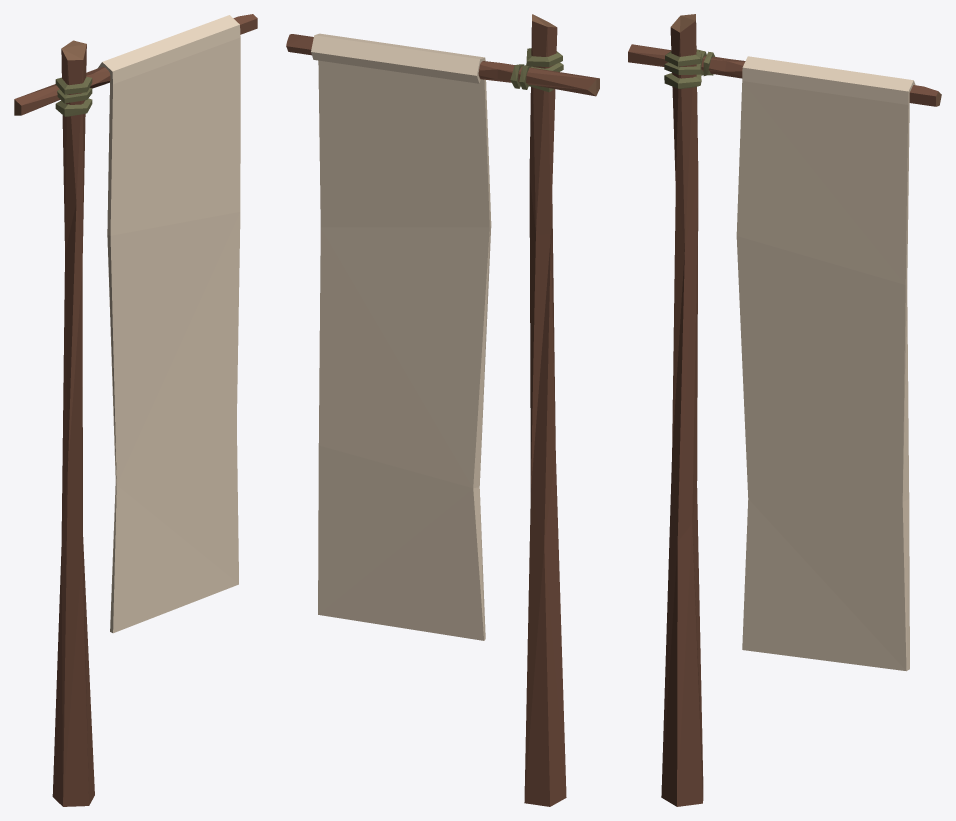
File: Sign_1 Asia.fbx
3 renders of one model, left to right at view 1: azimuth 30°, elevation 25°; view 2: azimuth 150°, elevation 25°; view 3: azimuth 330°, elevation 25°, orthographic. The views are drawn at different scales.
Visible parts, largest first — view 1: Sign_1; view 2: Sign_1; view 3: Sign_1.
Part boxes in pixels (box(x1,y1,x2,y2)): Sign_1: box(14, 14, 257, 806); Sign_1: box(286, 14, 599, 806); Sign_1: box(628, 14, 941, 806).
Bounding box in the file's own units: 0.7471 × 2 × 0.2363.
